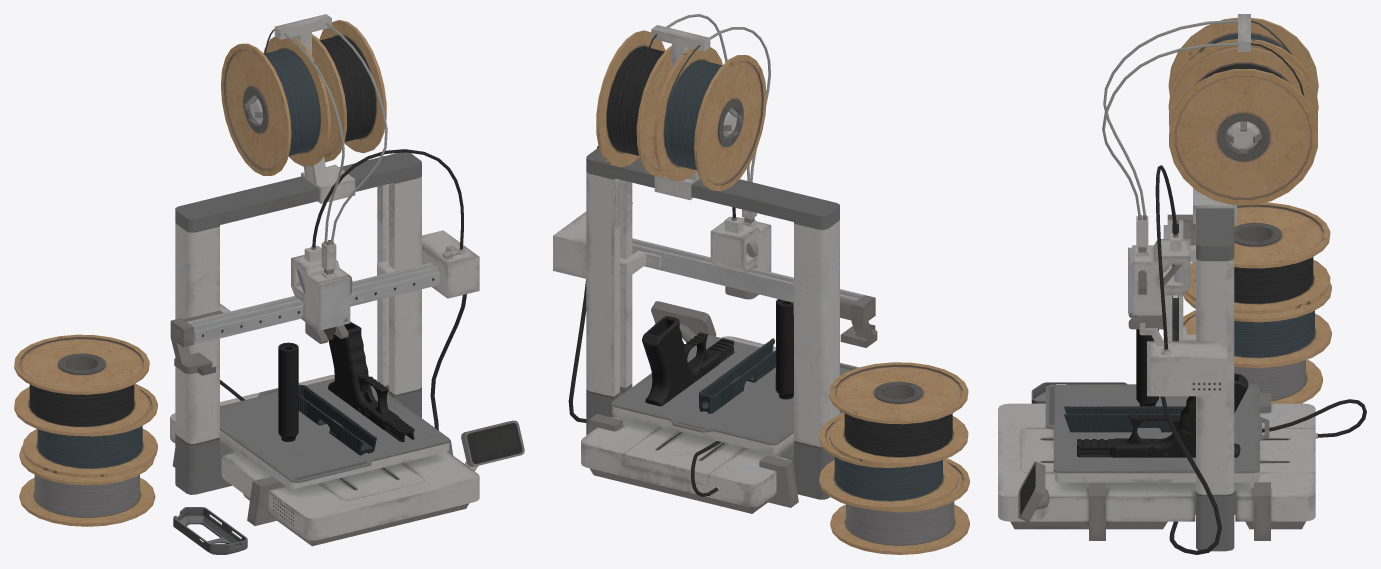
The model's file is 3d_printer.glb.
The picture shows the model from 3 angles, left to right: view 1: azimuth 30°, elevation 25°; view 2: azimuth 150°, elevation 25°; view 3: azimuth 270°, elevation 25°; orthographic projection. The views are drawn at different scales.
Visible parts, largest first — view 1: 3D_Printer_3D_Printer_0, Device_Shell_3DPrint_Shells_0; view 2: 3D_Printer_3D_Printer_0, Device_Shell_3DPrint_Shells_0; view 3: 3D_Printer_3D_Printer_0, Device_Shell_3DPrint_Shells_0.
Boxes of the visible parts, <box> form: 3D_Printer_3D_Printer_0: <box>14,14,524,546</box>; Device_Shell_3DPrint_Shells_0: <box>173,321,414,554</box>; 3D_Printer_3D_Printer_0: <box>553,14,969,554</box>; Device_Shell_3DPrint_Shells_0: <box>642,299,793,413</box>; 3D_Printer_3D_Printer_0: <box>998,14,1366,554</box>; Device_Shell_3DPrint_Shells_0: <box>1031,329,1248,457</box>.
Size of the model in its own units: 0.704 by 0.7013 by 0.4993.
Materials: 2 (2 with a texture image).
